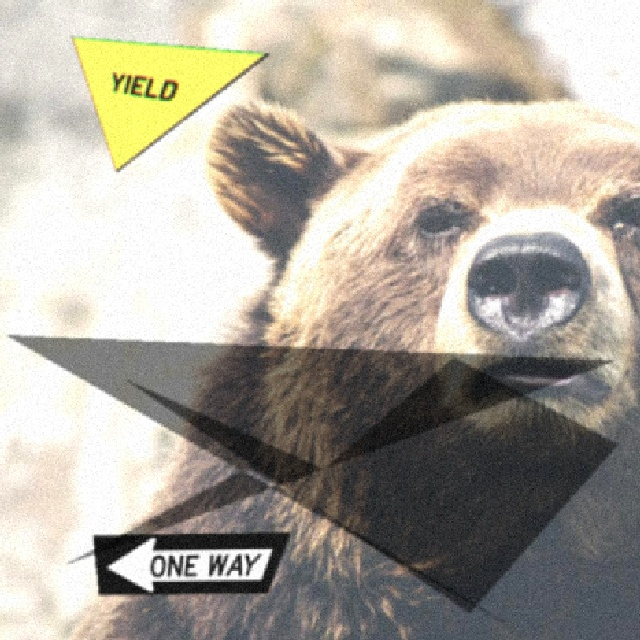ONE_WAY_ left: (91, 530, 290, 594)
YIELD: (70, 35, 269, 171)
